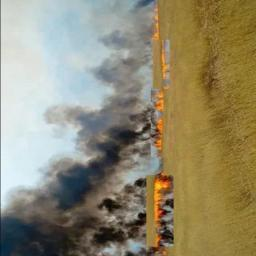Heavy smoke: (2, 106, 150, 255)
Low smoke: (101, 10, 149, 97)
Small fire: (150, 175, 175, 245), (151, 3, 171, 82), (148, 85, 166, 157)
